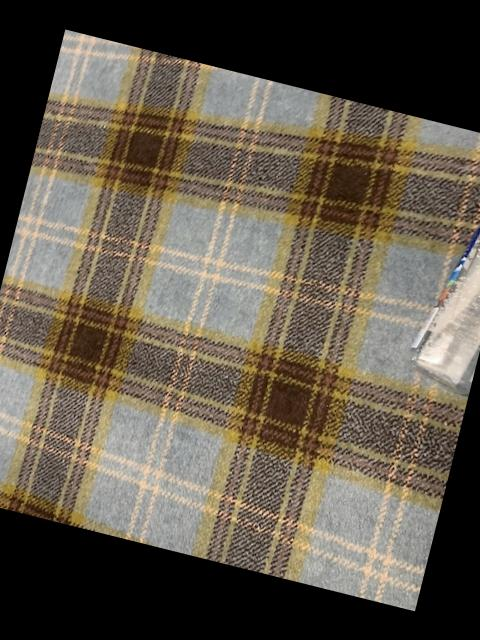plastic: (409, 224, 480, 395)
